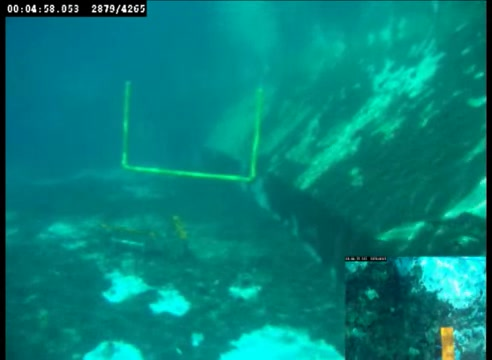channel: (119, 77, 266, 184)
